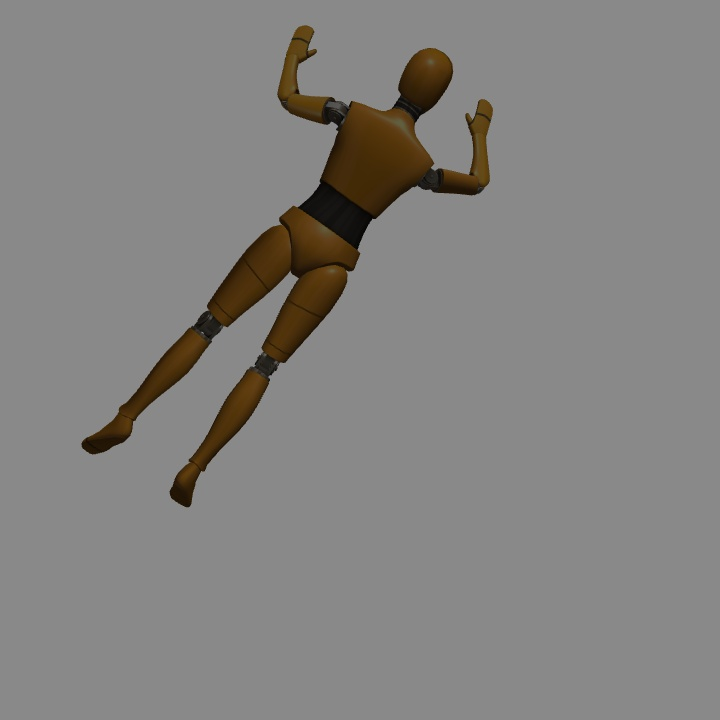victim: (83, 50, 492, 510)
